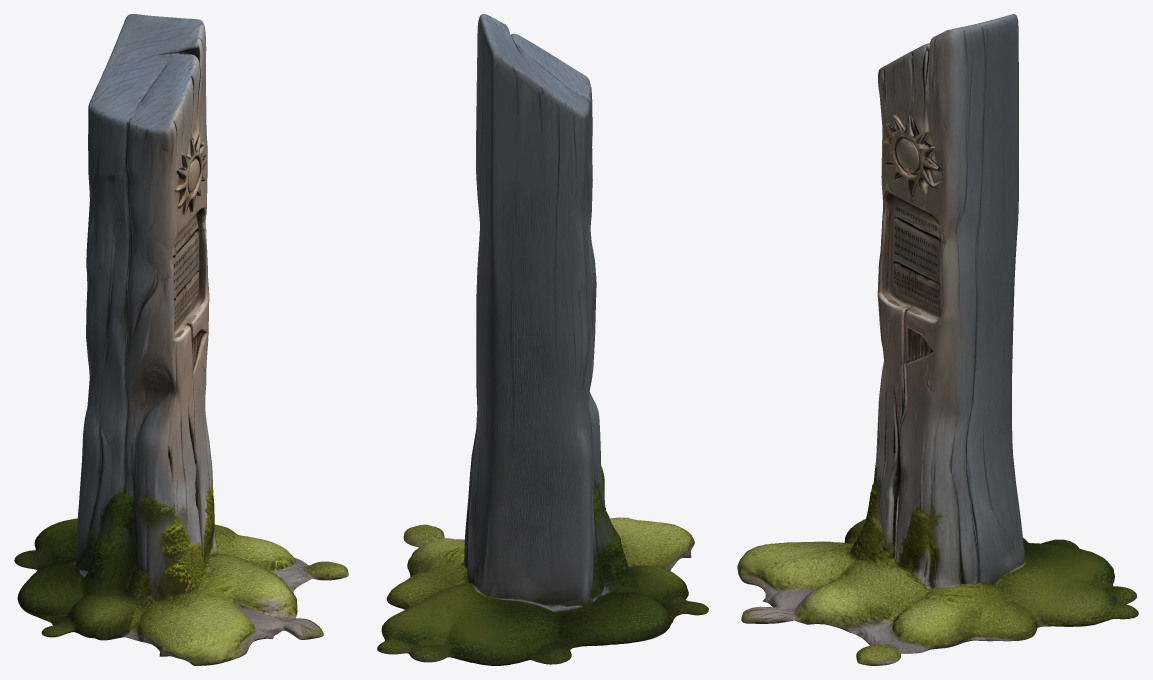
Rendered from tiang-penunjuk.glb.
3 renders of one model, left to right at view 1: azimuth 30°, elevation 25°; view 2: azimuth 150°, elevation 25°; view 3: azimuth 270°, elevation 25°, orthographic. The views are drawn at different scales.
Parts seen in each view (by area): view 1: geometry_0; view 2: geometry_0; view 3: geometry_0.
Boxes of the visible parts, x1=… form: geometry_0: x1=14, y1=14, x2=348, y2=665; geometry_0: x1=377, y1=14, x2=708, y2=665; geometry_0: x1=737, y1=14, x2=1138, y2=665.
Bounding box in the file's own units: 0.5647 × 1 × 0.6289.
1 material, 1 textured.
